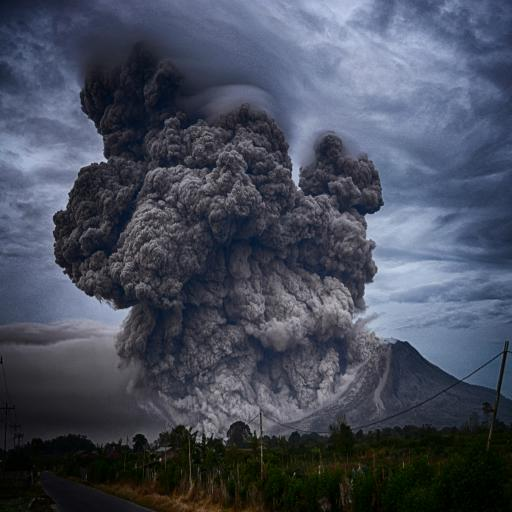smoke: (37, 0, 399, 415)
wildfire: (92, 285, 424, 512)
